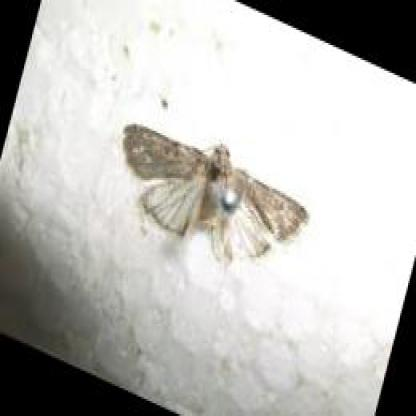Leaf Webber: (117, 119, 319, 266)
